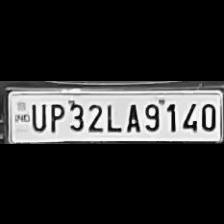0: (198, 99, 218, 130)
1: (162, 98, 178, 132)
2: (84, 98, 104, 132)
3: (66, 97, 84, 130)
4: (178, 99, 198, 131)
9: (140, 98, 160, 132)
A: (122, 100, 142, 132)
L: (102, 98, 122, 132)
P: (45, 99, 65, 133)
U: (28, 100, 46, 132)
